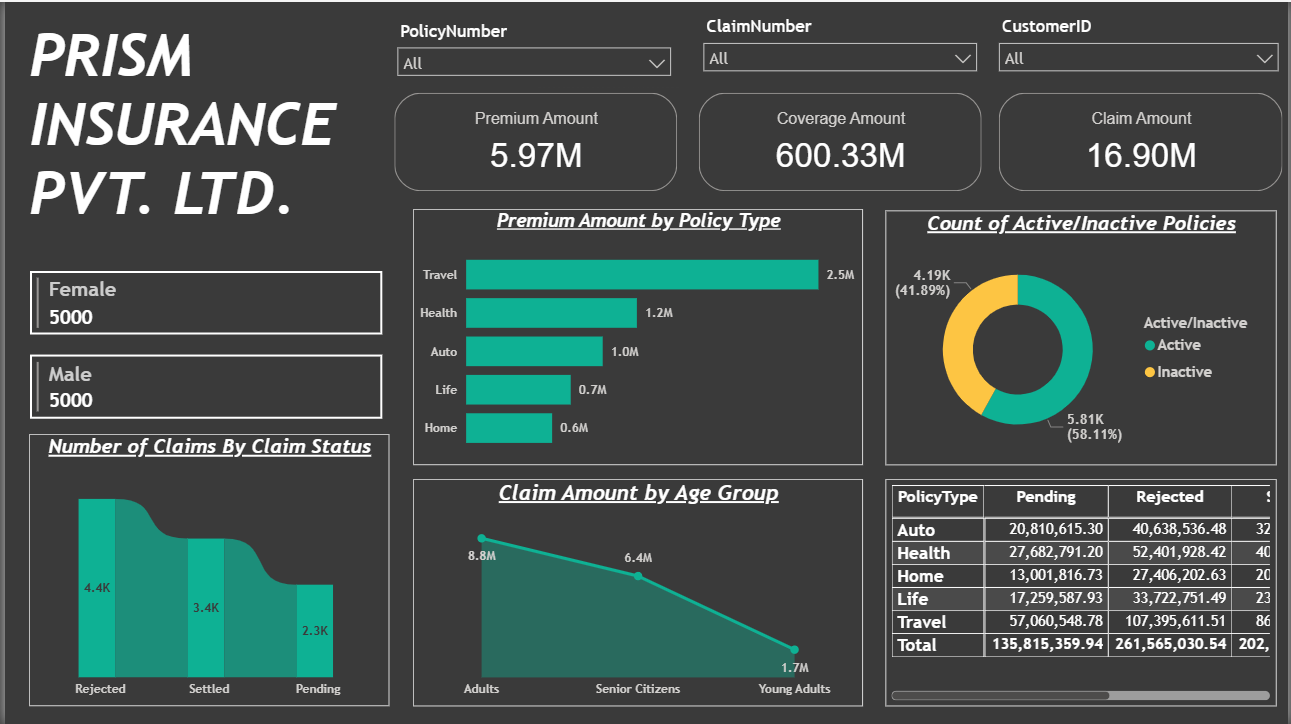

The page's visual inventory and layout, read from the dashboard file:
{"tool":"powerbi","page":{"name":"Insights","canvas":[1280,720],"ordinal":0},"visuals":[{"type":"slicer","fields":{"Values":["InsuranceData.PolicyNumber"]},"box":[381.8,12.8,292.4,71.9],"z":0},{"type":"slicer","fields":{"Values":["InsuranceData.ClaimNumber"]},"box":[686.5,9.6,292.4,71.9],"z":1000},{"type":"slicer","fields":{"Values":["InsuranceData.CustomerID"]},"box":[981.2,8.5,298.8,71.9],"z":2000},{"type":"textbox","box":[18.9,13.2,347.7,219.2],"z":3000},{"type":"cardVisual","fields":{"Data":["Sum(InsuranceData.PremiumAmount)"]},"box":[383.4,84.7,292.4,108.6],"z":4000},{"type":"cardVisual","fields":{"Data":["Sum(InsuranceData.CoverageAmount)"]},"box":[687,84.7,292.4,108.6],"z":5000},{"type":"cardVisual","fields":{"Data":["Sum(InsuranceData.ClaimAmount)"]},"box":[985.8,84.7,294,108.6],"z":6000},{"type":"multiRowCard","fields":{"Values":["InsuranceData.Gender","CountNonNull(InsuranceData.Gender)"]},"box":[18.9,262.7,361.6,177.6],"z":7000},{"type":"ribbonChart","title":"Number of Claims By Claim Status","fields":{"Category":["InsuranceData.ClaimStatus"],"Y":["CountNonNull(InsuranceData.ClaimStatus)"]},"box":[24,431.4,359.5,271.6],"z":8000},{"type":"barChart","title":"Premium Amount by Policy Type","fields":{"Category":["InsuranceData.PolicyType"],"Y":["Sum(InsuranceData.PremiumAmount)"]},"box":[407.4,206.1,448.9,255.6],"z":9000},{"type":"lineChart","title":"Claim Amount by Age Group","fields":{"Category":["InsuranceData.Age Grp"],"Y":["Sum(InsuranceData.ClaimAmount)"]},"box":[407.4,476.1,448.9,226.9],"z":10000},{"type":"donutChart","title":"Count of Active/Inactive Policies","fields":{"Category":["InsuranceData.Active/Inactive"],"Y":["CountNonNull(InsuranceData.Active/Inactive)"]},"box":[878.7,207.7,389.8,254],"z":11000},{"type":"pivotTable","fields":{"Values":["Sum(InsuranceData.CoverageAmount)"],"Rows":["InsuranceData.PolicyType"],"Columns":["InsuranceData.ClaimStatus"]},"box":[878.7,476.1,389.8,226.9],"z":12000}]}

Visuals, with their boxes in screenshot pixels (x1, y1, x2, y2), scaled from the page's 1280x720 canvas onto the 1291x724 screenshot:
slicer - InsuranceData.PolicyNumber: 385:13:680:85
slicer - InsuranceData.ClaimNumber: 692:10:987:82
slicer - InsuranceData.CustomerID: 990:9:1290:81
textbox: 19:13:370:234
cardVisual - Sum(InsuranceData.PremiumAmount): 387:85:682:194
cardVisual - Sum(InsuranceData.CoverageAmount): 693:85:988:194
cardVisual - Sum(InsuranceData.ClaimAmount): 994:85:1290:194
multiRowCard - InsuranceData.Gender x CountNonNull(InsuranceData.Gender): 19:264:384:443
"Number of Claims By Claim Status" ribbonChart: 24:434:387:707
"Premium Amount by Policy Type" barChart: 411:207:864:464
"Claim Amount by Age Group" lineChart: 411:479:864:707
"Count of Active/Inactive Policies" donutChart: 886:209:1279:464
pivotTable - Sum(InsuranceData.CoverageAmount) x InsuranceData.PolicyType: 886:479:1279:707
